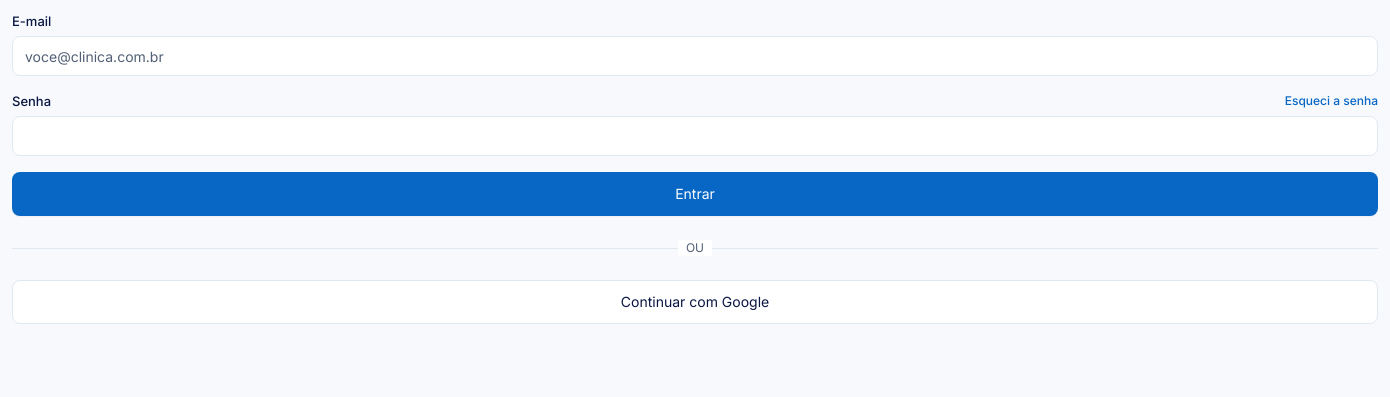
LoginForm › mostra erros de validação ao submeter campos vazios
Click the button "Entrar" at (695, 194), box [12,172,1378,216]
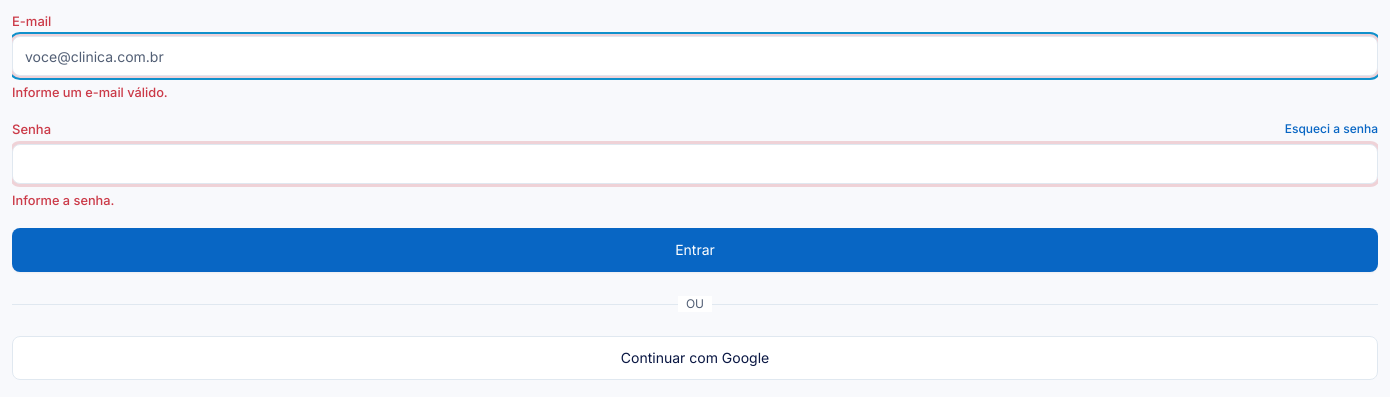
Now the text "Informe um e-mail válido." is shown, box [12,85,168,100]
Now the text "Informe a senha." is shown, box [12,193,114,208]
